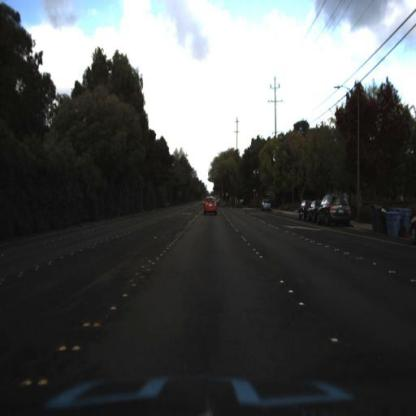car: (319, 193, 355, 228), (202, 191, 220, 221), (307, 199, 319, 226), (299, 198, 310, 222), (259, 200, 274, 216)
